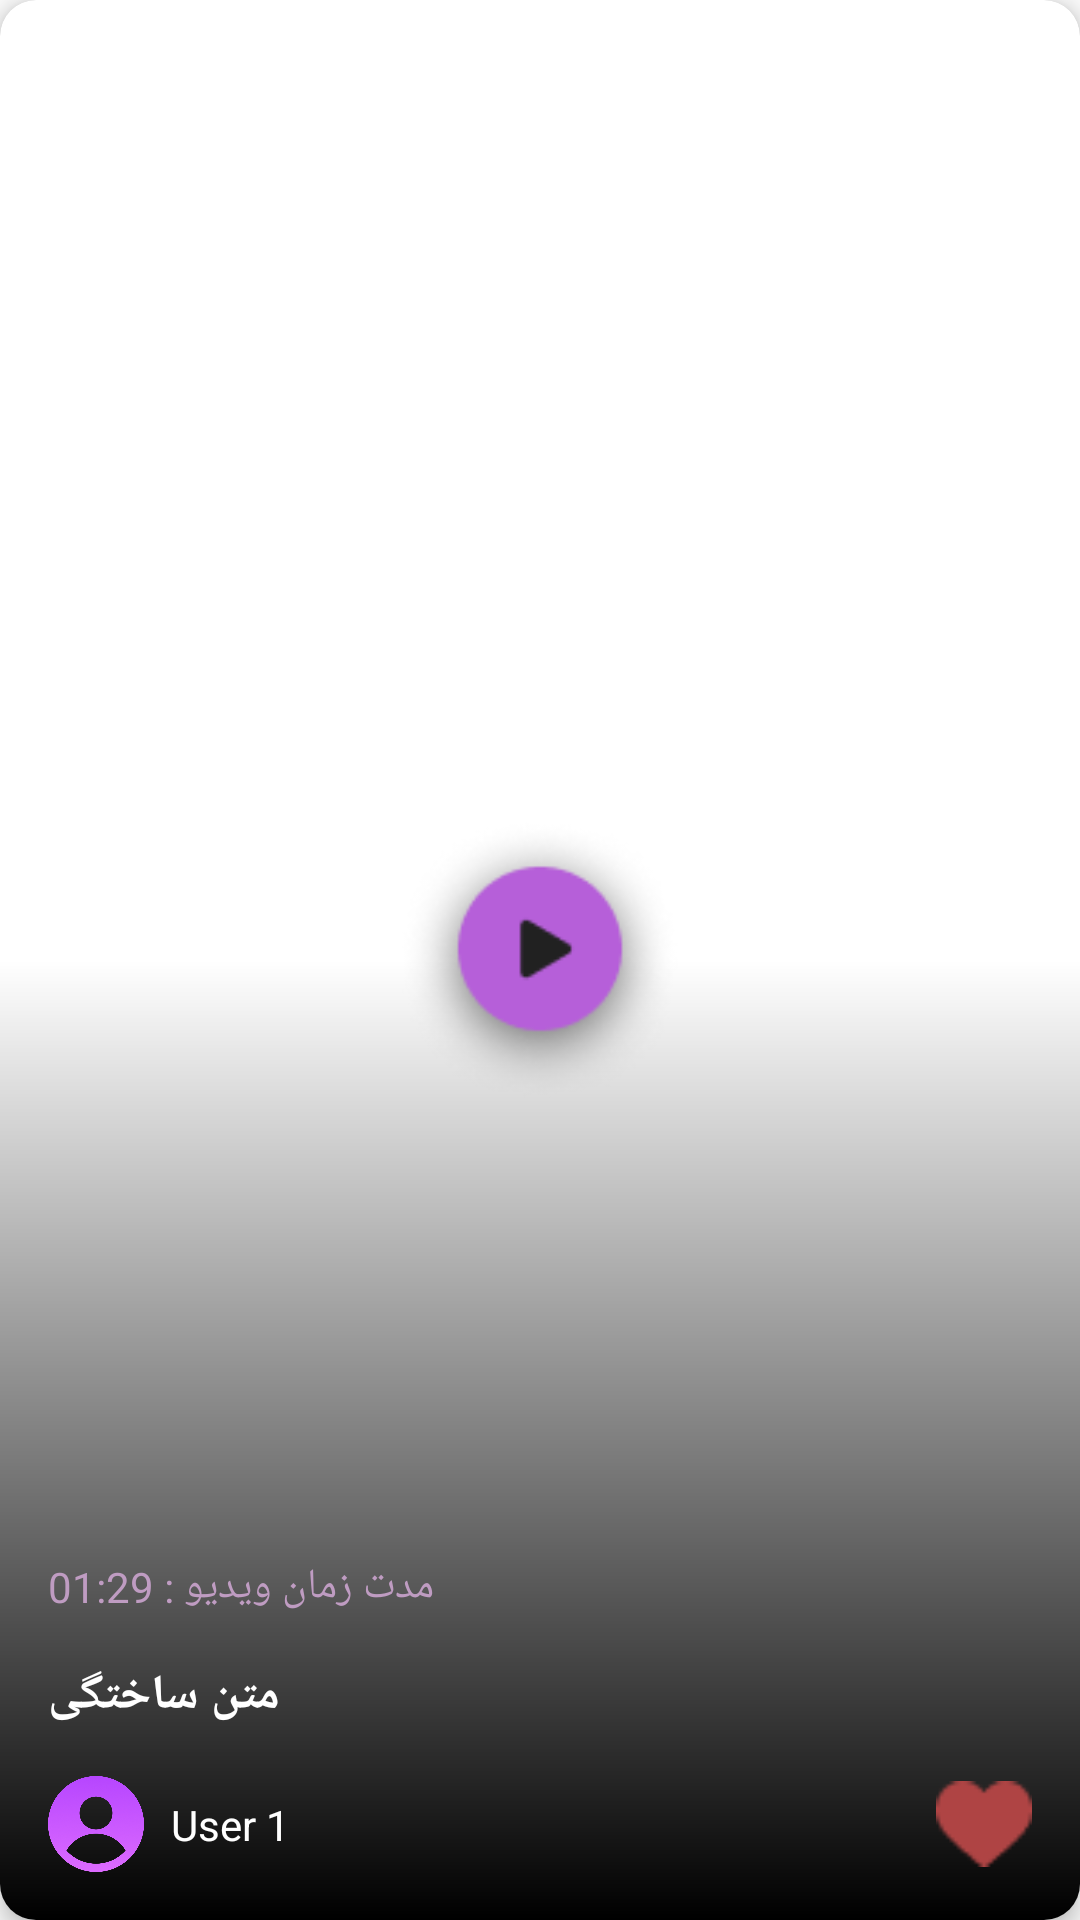

Icons on this 1080w x 1920h Android screen, each with its box as (x1, y1, x2, y2):
liked: (936, 1781, 1032, 1867)
play: (396, 856, 684, 1104)
